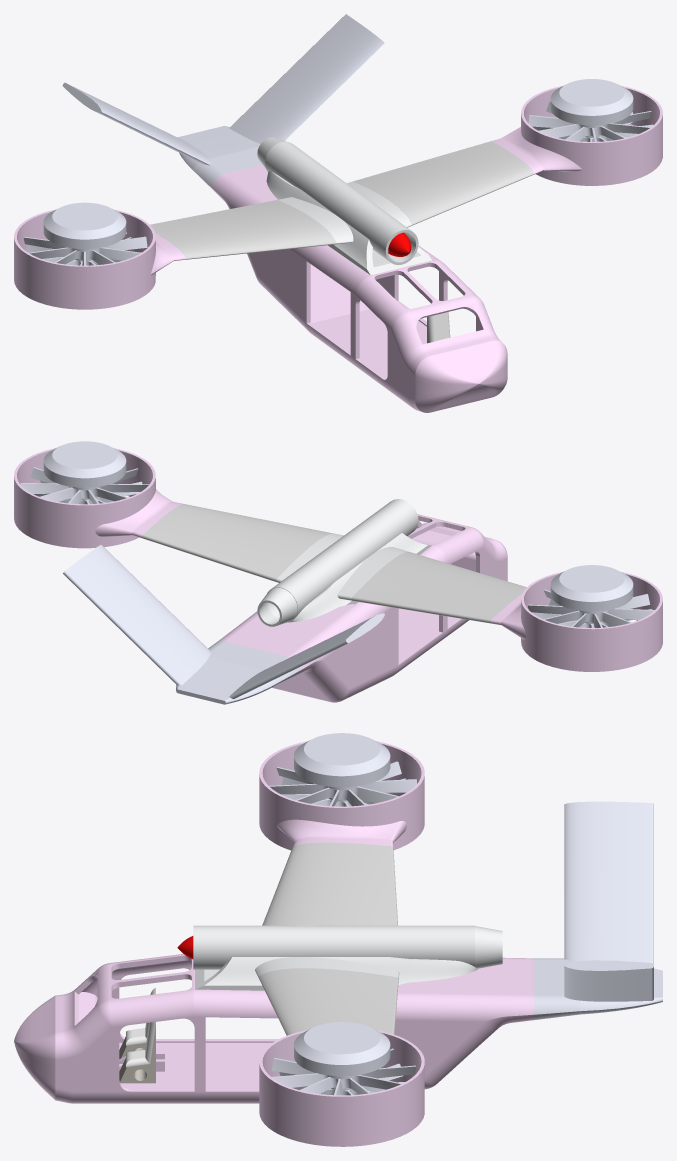
The model's file is drone-3d.glb.
The picture shows the model from 3 angles, top to bottom: view 1: azimuth 30°, elevation 25°; view 2: azimuth 150°, elevation 25°; view 3: azimuth 270°, elevation 25°; orthographic projection. The views are drawn at different scales.
Parts seen in each view (by area): view 1: Body_1 (×11), 3DGeom-458, 3DGeom-696; view 2: Body_1 (×11), 3DGeom-458; view 3: Body_1 (×11), 3DGeom-458, 3DGeom-695, 3DGeom-696.
Boxes of the visible parts, x1=… form: Body_1 (×11): x1=14, y1=14, x2=662, y2=412; 3DGeom-458: x1=257, y1=137, x2=431, y2=275; 3DGeom-696: x1=427, y1=312, x2=450, y2=342; Body_1 (×11): x1=14, y1=441, x2=662, y2=704; 3DGeom-458: x1=257, y1=499, x2=431, y2=626; Body_1 (×11): x1=14, y1=733, x2=662, y2=1146; 3DGeom-458: x1=193, y1=925, x2=502, y2=990; 3DGeom-695: x1=119, y1=1024, x2=155, y2=1083; 3DGeom-696: x1=126, y1=1022, x2=155, y2=1067.
Size of the model in its own units: 0.3075 by 0.0812 by 0.235.
